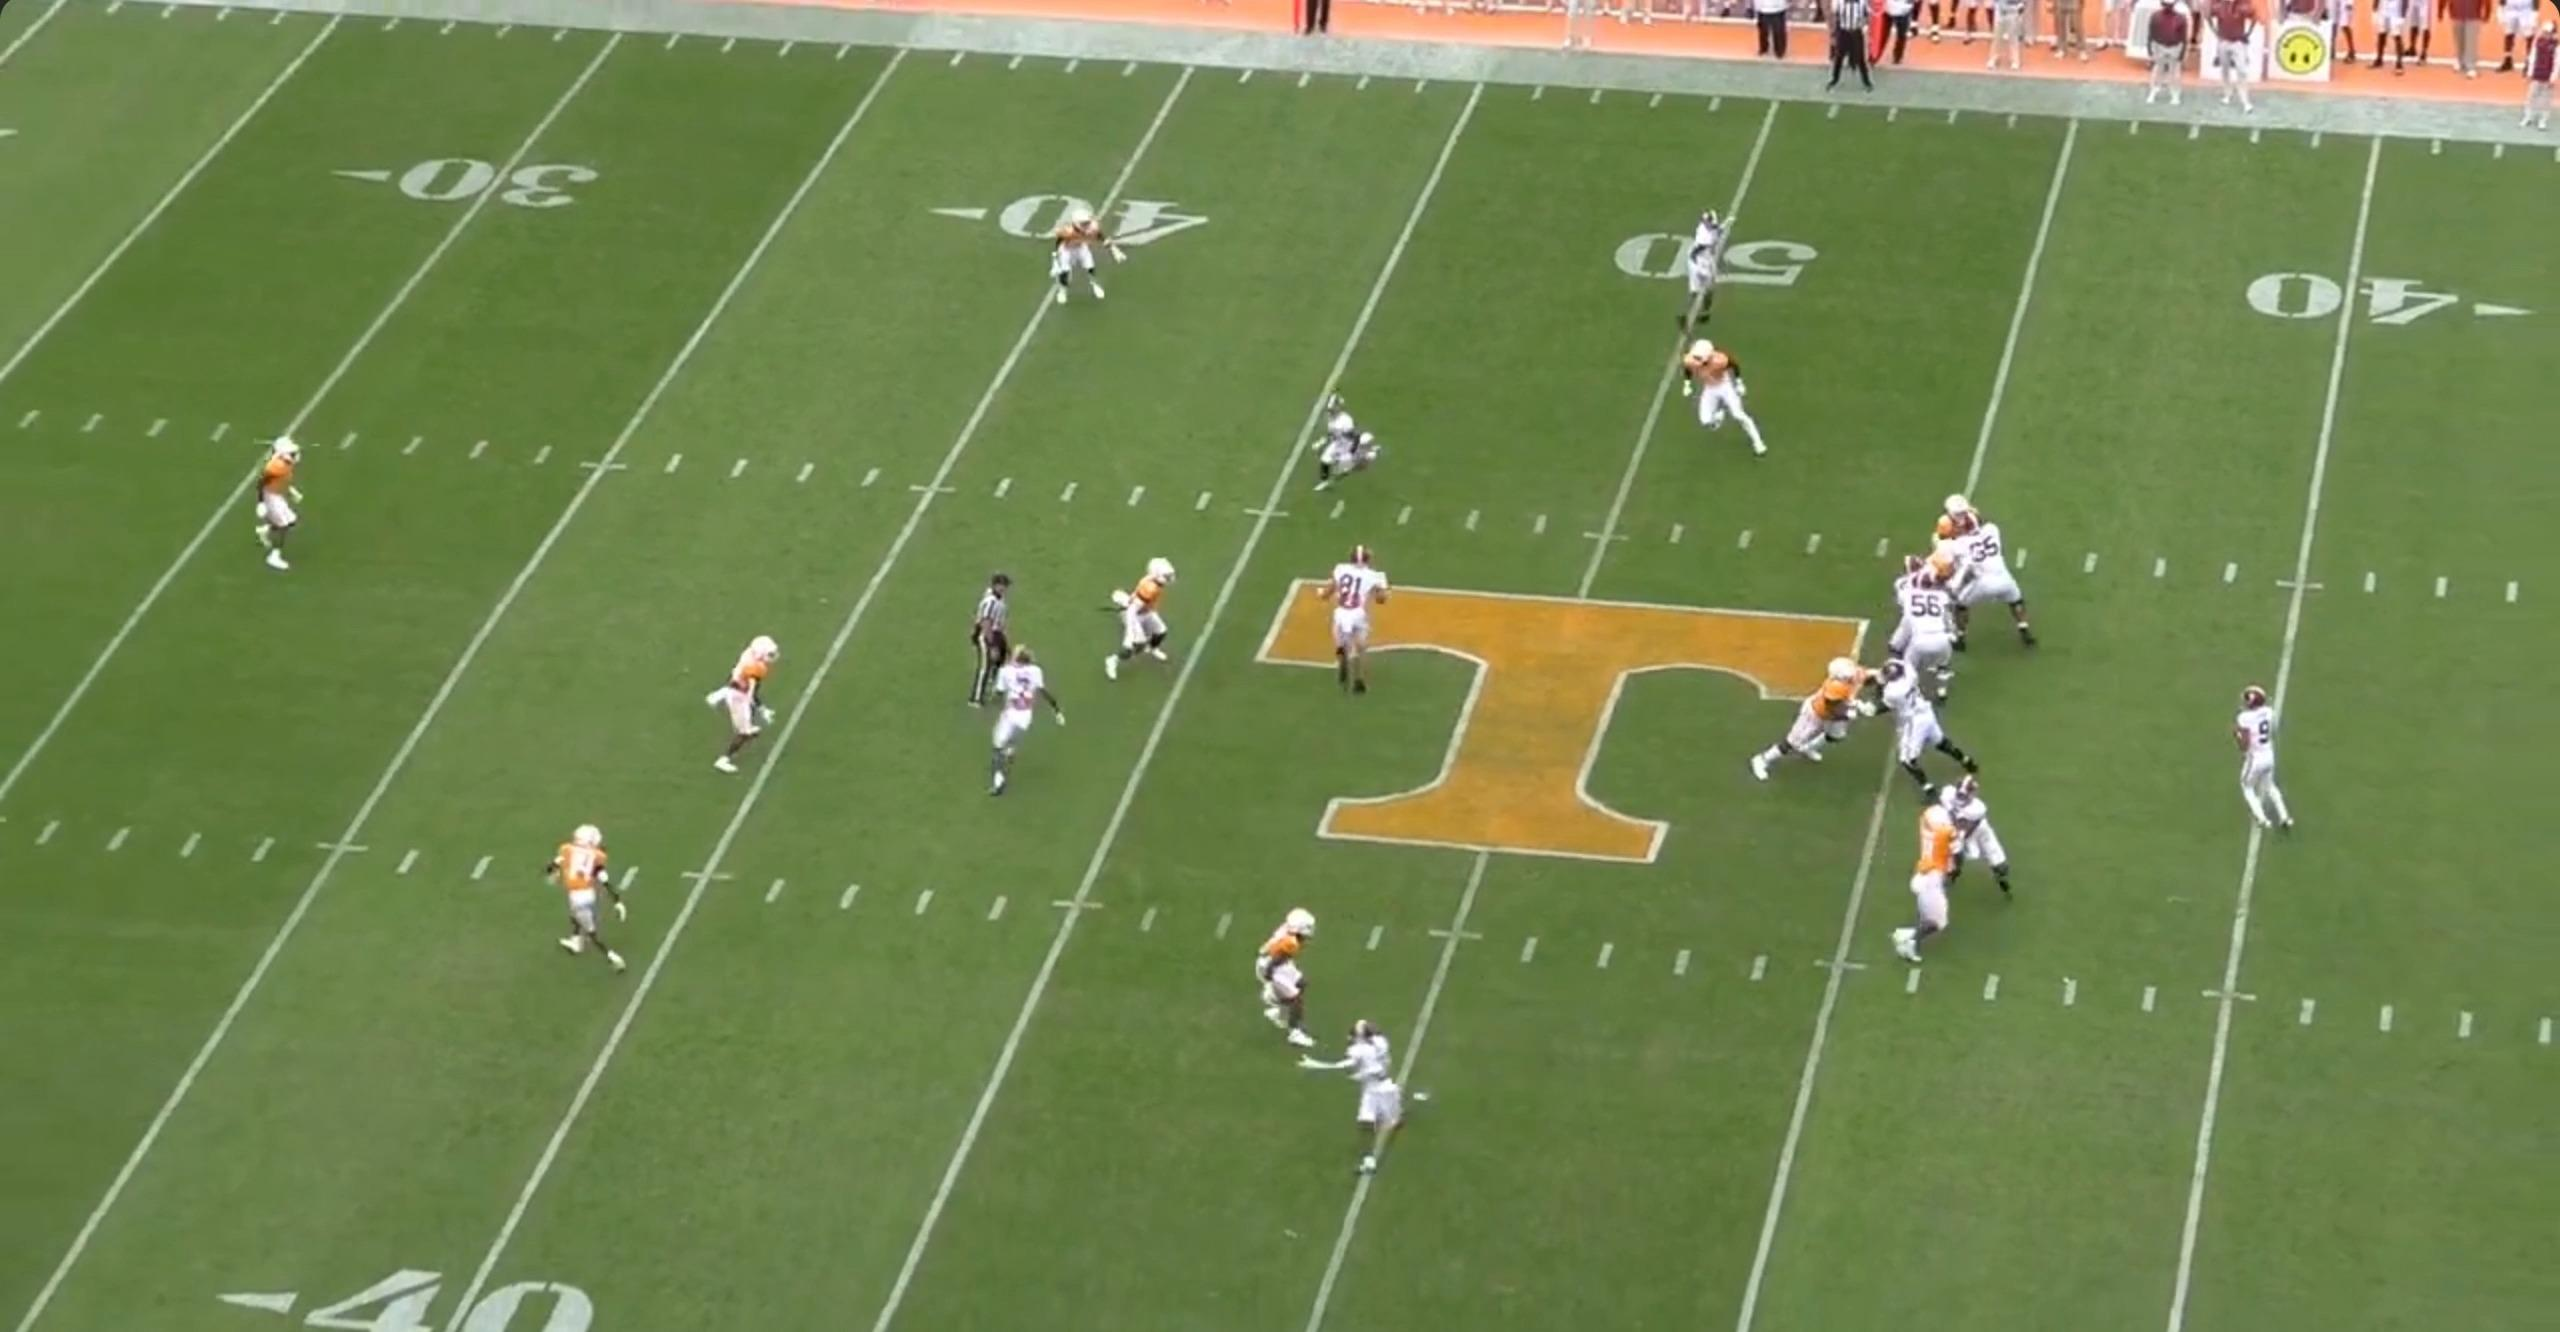player: (1738, 659, 1870, 791), (1895, 795, 1982, 975), (1861, 671, 1978, 800), (534, 822, 625, 980), (979, 643, 1066, 803), (1337, 1021, 1418, 1188), (1677, 335, 1774, 464), (1316, 546, 1396, 701), (2218, 684, 2298, 839), (696, 634, 779, 783), (1931, 771, 2018, 905), (1935, 517, 2027, 643), (1096, 556, 1179, 681), (1250, 900, 1318, 1050), (251, 433, 317, 575), (1896, 566, 1960, 709), (1662, 201, 1730, 330), (1052, 192, 1128, 307), (1300, 397, 1379, 498), (1885, 552, 1938, 660), (1926, 488, 1983, 544), (1919, 543, 1972, 590)
ref: (959, 573, 1020, 722), (1806, 2, 1881, 103)
